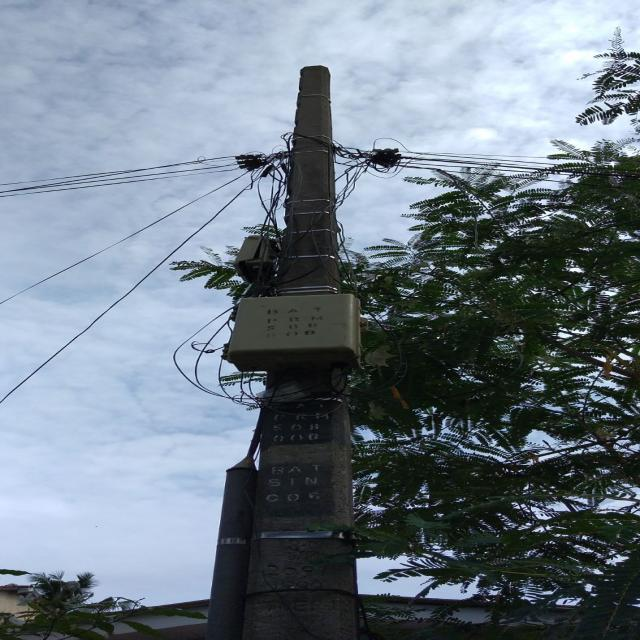light_pole: (239, 61, 367, 640)
